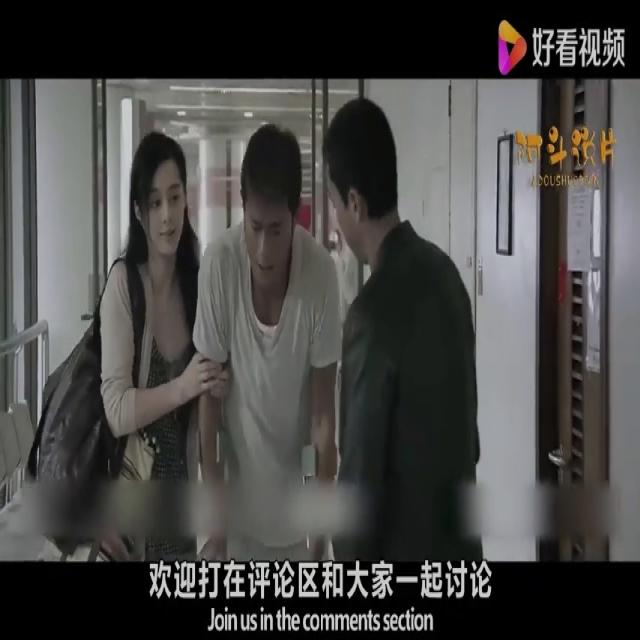non-fight: (30, 126, 230, 561), (322, 90, 486, 564), (192, 122, 340, 564)
